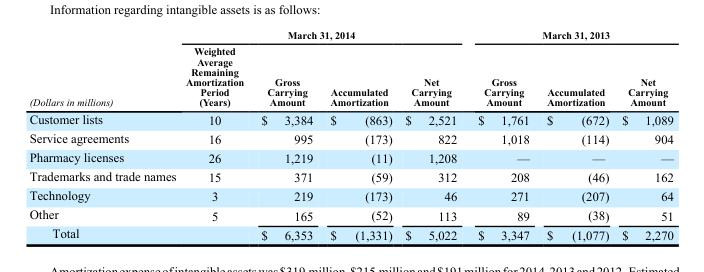table: (28, 28, 672, 241)
table column: (28, 28, 180, 241), (320, 28, 398, 241), (537, 28, 614, 241), (180, 28, 251, 241), (466, 28, 537, 241), (251, 28, 320, 241), (398, 28, 466, 241), (614, 28, 672, 241)
table column header: (28, 28, 672, 109)
table row: (28, 42, 672, 109), (28, 185, 672, 205), (28, 109, 672, 128), (28, 128, 672, 147), (28, 147, 672, 166), (28, 166, 672, 185), (28, 205, 672, 224), (28, 224, 672, 241), (28, 28, 672, 42)
table spanning cell: (28, 28, 180, 109), (180, 28, 466, 42), (466, 28, 672, 42)
